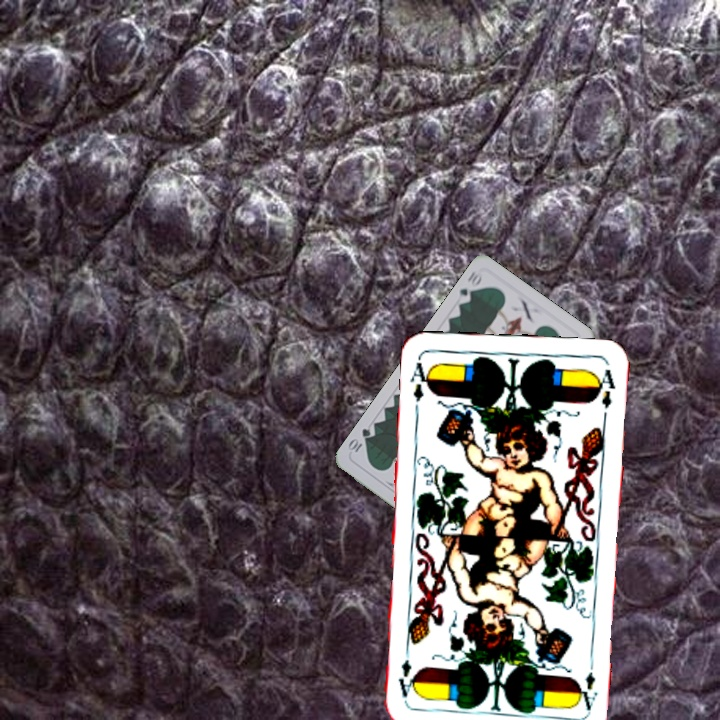EA: (574, 654, 600, 713), (406, 353, 434, 404)
G10: (453, 266, 486, 306)
